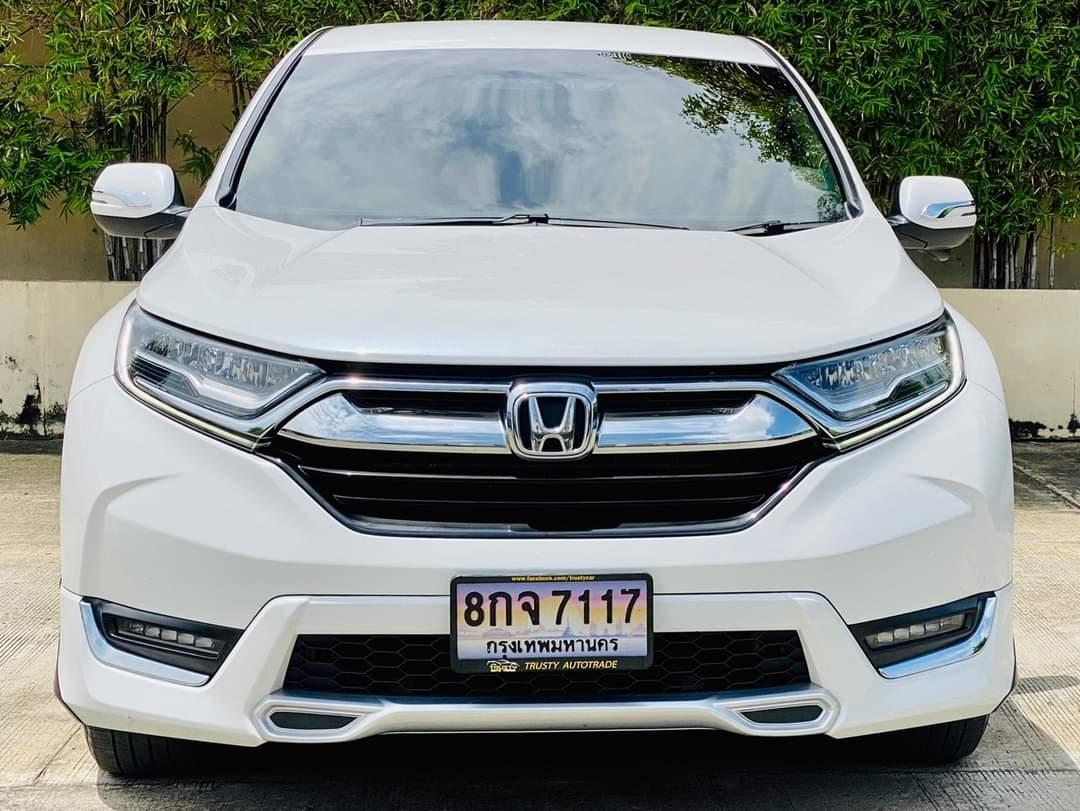license-plate: (448, 573, 656, 676)
